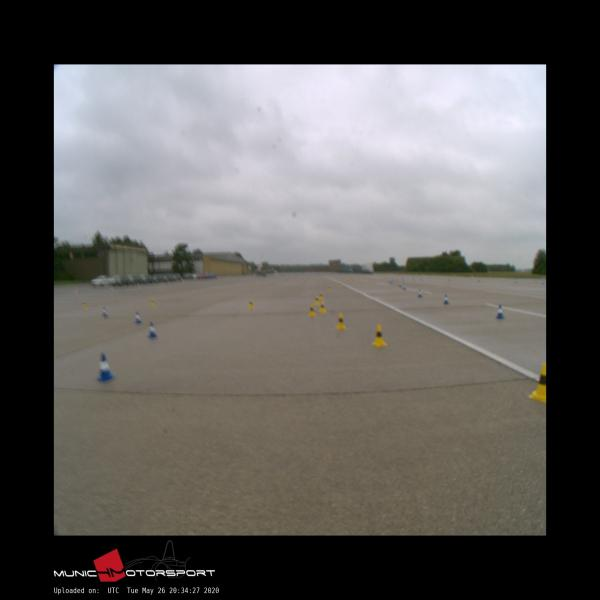blue_cone: (97, 354, 115, 380), (147, 321, 156, 339), (495, 304, 504, 318), (134, 311, 142, 325), (442, 294, 449, 304), (102, 306, 108, 315)
yellow_cone: (528, 363, 546, 400), (372, 326, 386, 346), (336, 313, 345, 328), (319, 300, 326, 313), (308, 303, 315, 315), (314, 295, 320, 305), (248, 299, 254, 308), (82, 300, 86, 307), (150, 298, 154, 305)
